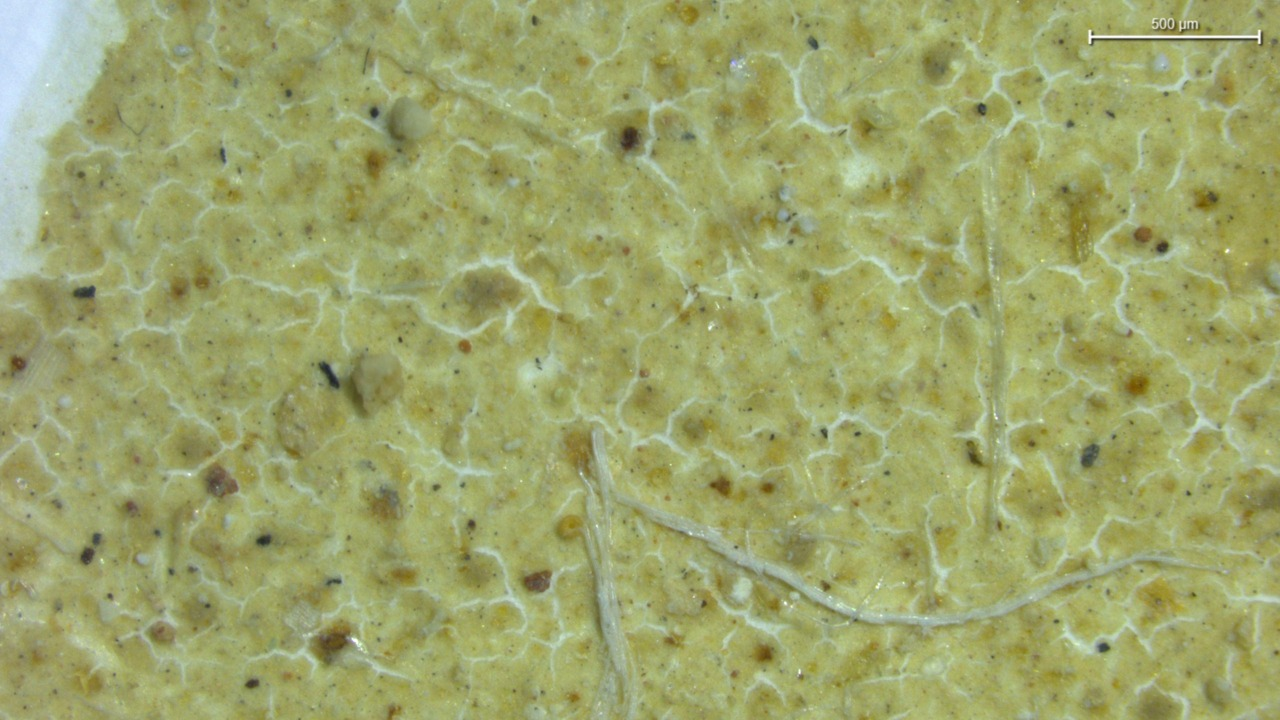microplastic_fragment: (351, 352, 404, 413), (386, 96, 436, 149)
